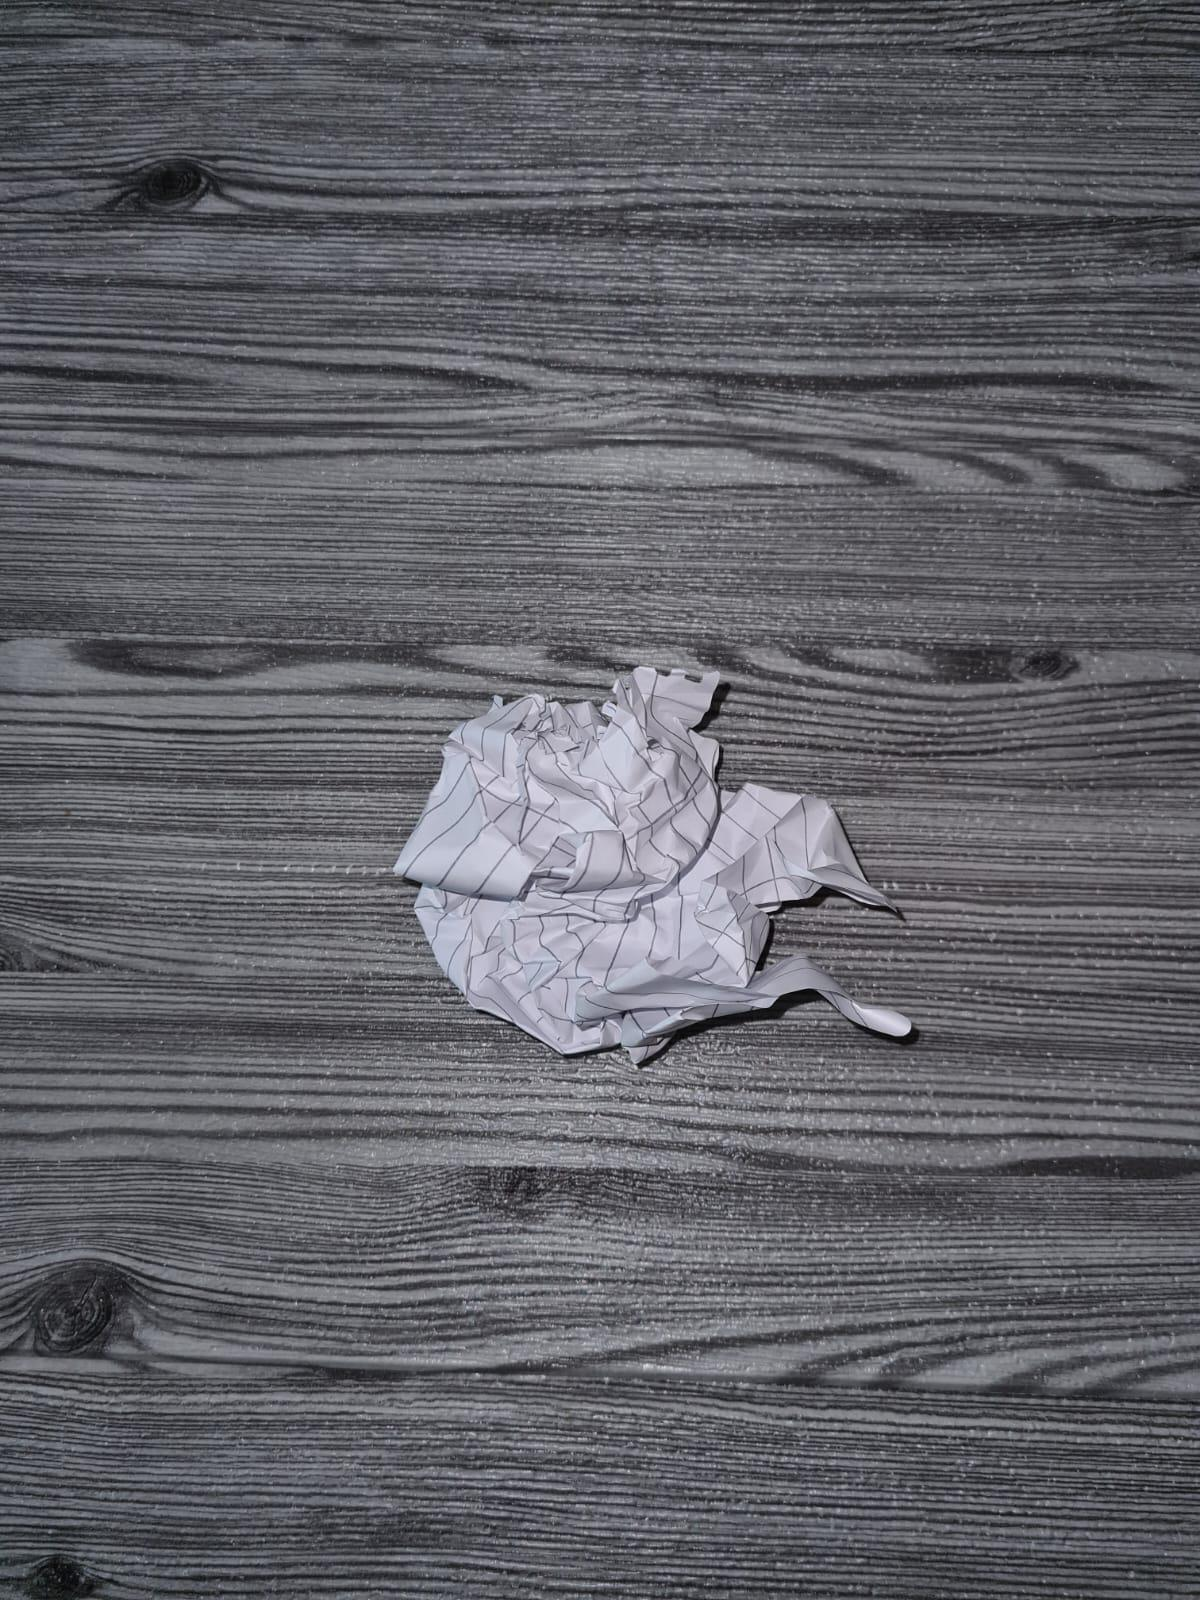Paper: (391, 691, 920, 1048)
